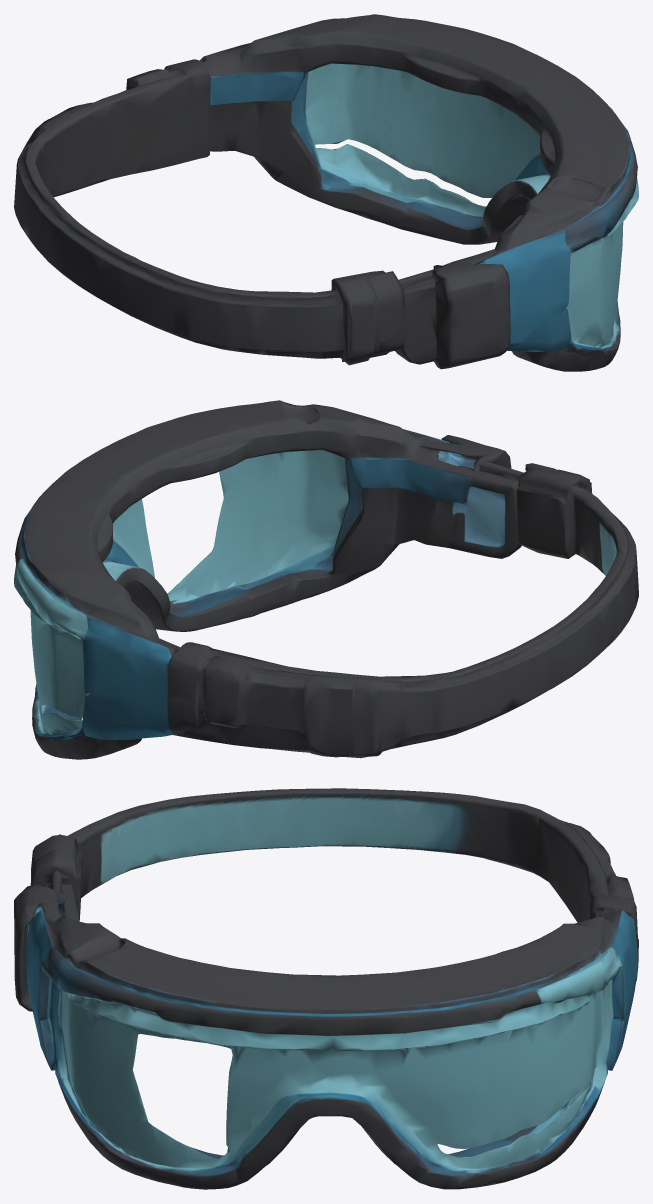
File: safety-goggles.glb
The picture shows the model from 3 angles, top to bottom: view 1: azimuth 30°, elevation 25°; view 2: azimuth 150°, elevation 25°; view 3: azimuth 270°, elevation 25°; orthographic projection. The views are drawn at different scales.
Parts seen in each view (by area): view 1: tripo_node_34046fcb-fda7-4bb3-9c2c-71f1f4bb28c9; view 2: tripo_node_34046fcb-fda7-4bb3-9c2c-71f1f4bb28c9; view 3: tripo_node_34046fcb-fda7-4bb3-9c2c-71f1f4bb28c9.
Boxes of the visible parts, bbox=[...] form: tripo_node_34046fcb-fda7-4bb3-9c2c-71f1f4bb28c9: bbox=[14, 14, 638, 371]; tripo_node_34046fcb-fda7-4bb3-9c2c-71f1f4bb28c9: bbox=[14, 400, 638, 759]; tripo_node_34046fcb-fda7-4bb3-9c2c-71f1f4bb28c9: bbox=[14, 788, 638, 1189].
Size of the model in its own units: 0.9874 by 0.3645 by 1.
Materials: 1 (1 with a texture image).
